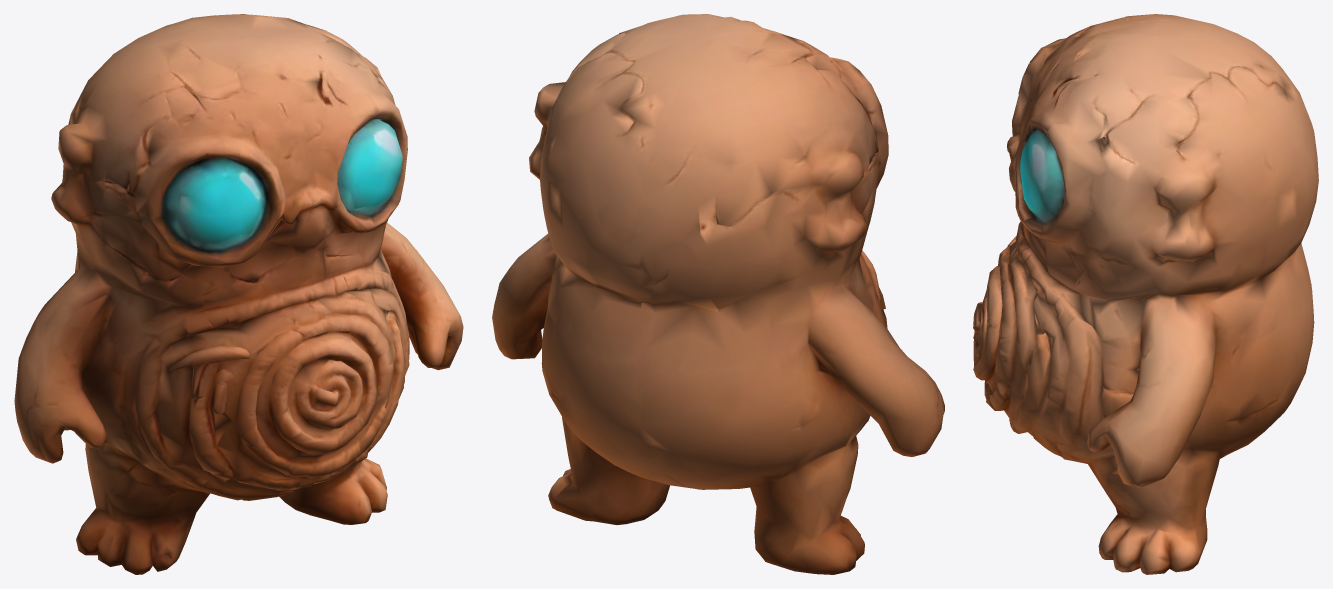
Rendered from anc_dogu.glb.
The picture shows the model from 3 angles, left to right: view 1: azimuth 30°, elevation 25°; view 2: azimuth 150°, elevation 25°; view 3: azimuth 270°, elevation 25°; orthographic projection. The views are drawn at different scales.
Visible parts, largest first — view 1: tripo_node_c9d55cb4-0b31-49df-96a3-03ee744f1bba; view 2: tripo_node_c9d55cb4-0b31-49df-96a3-03ee744f1bba; view 3: tripo_node_c9d55cb4-0b31-49df-96a3-03ee744f1bba.
Part boxes in pixels (box(x1,y1,x2,y2)): tripo_node_c9d55cb4-0b31-49df-96a3-03ee744f1bba: box(14, 14, 463, 574); tripo_node_c9d55cb4-0b31-49df-96a3-03ee744f1bba: box(492, 14, 944, 574); tripo_node_c9d55cb4-0b31-49df-96a3-03ee744f1bba: box(973, 14, 1318, 574).
Bounding box in the file's own units: 0.9194 × 0.9989 × 0.6618.
Materials: 1 (1 with a texture image).
